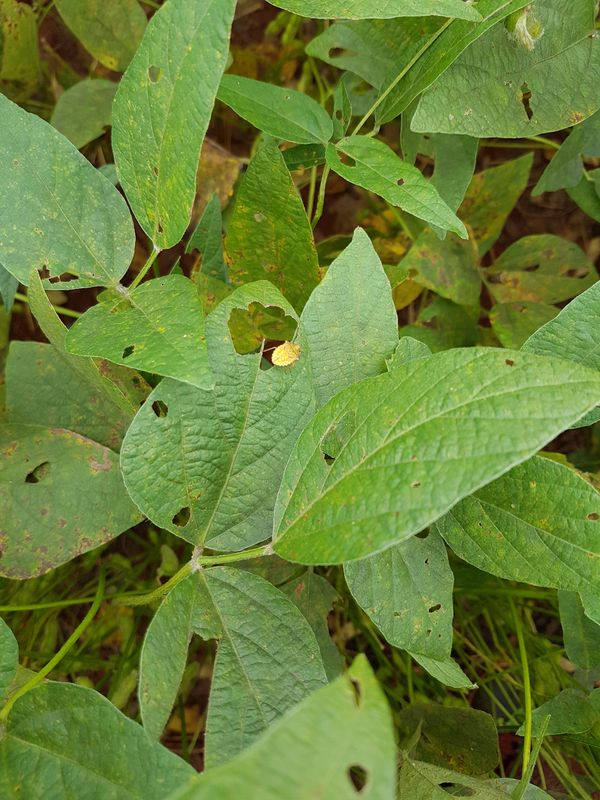Euschistus_heros_ninfa: (258, 331, 309, 376)
